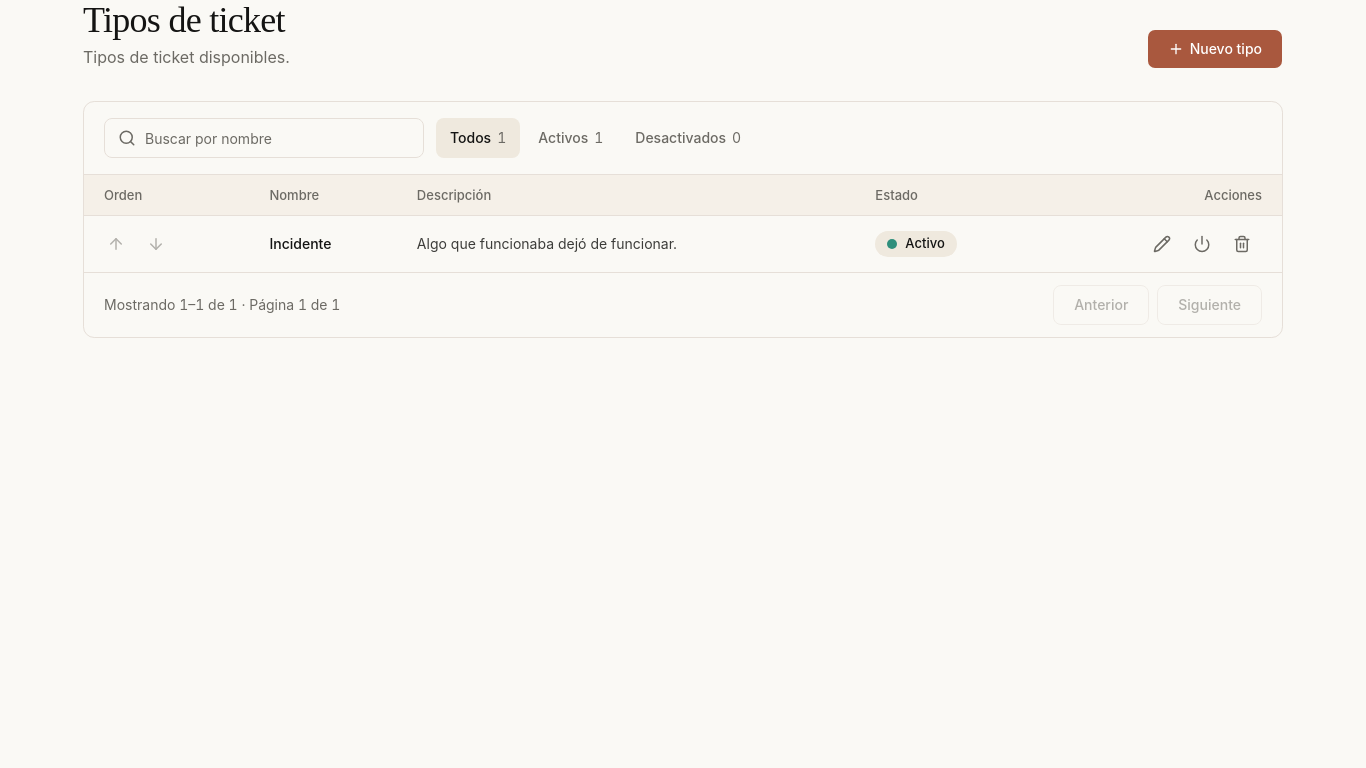
Test case: CatalogsAdmin › Tipos de ticket con descripción (SPEC 12) › el alta envía la descripción y el tipo aparece en la tabla
Expected: the text "Incidente" is shown, 269,235 -> 331,252
Click the button "Nuevo tipo": (1215, 49) 1147,29 -> 1283,69
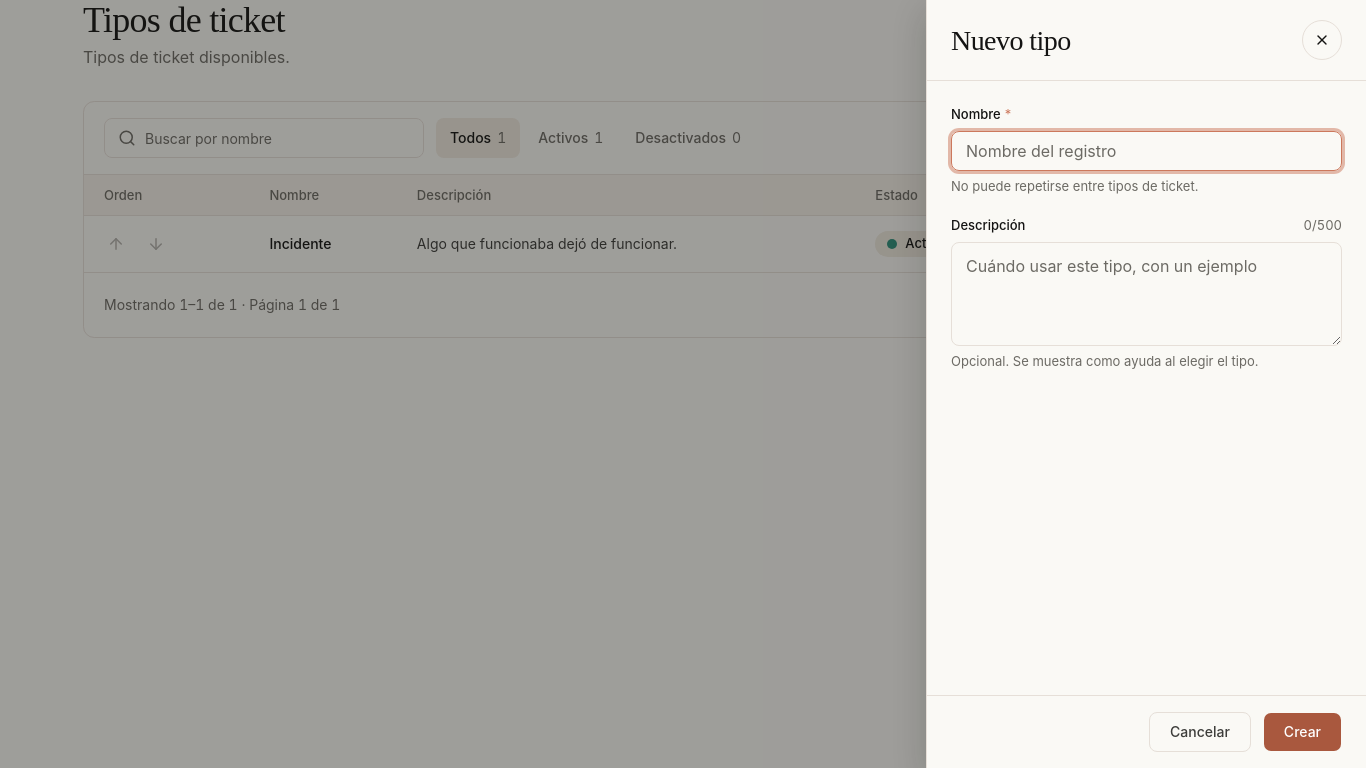
In the field labelled "Nombre": (1146, 150) 951,130 -> 1342,170, type "Consulta"
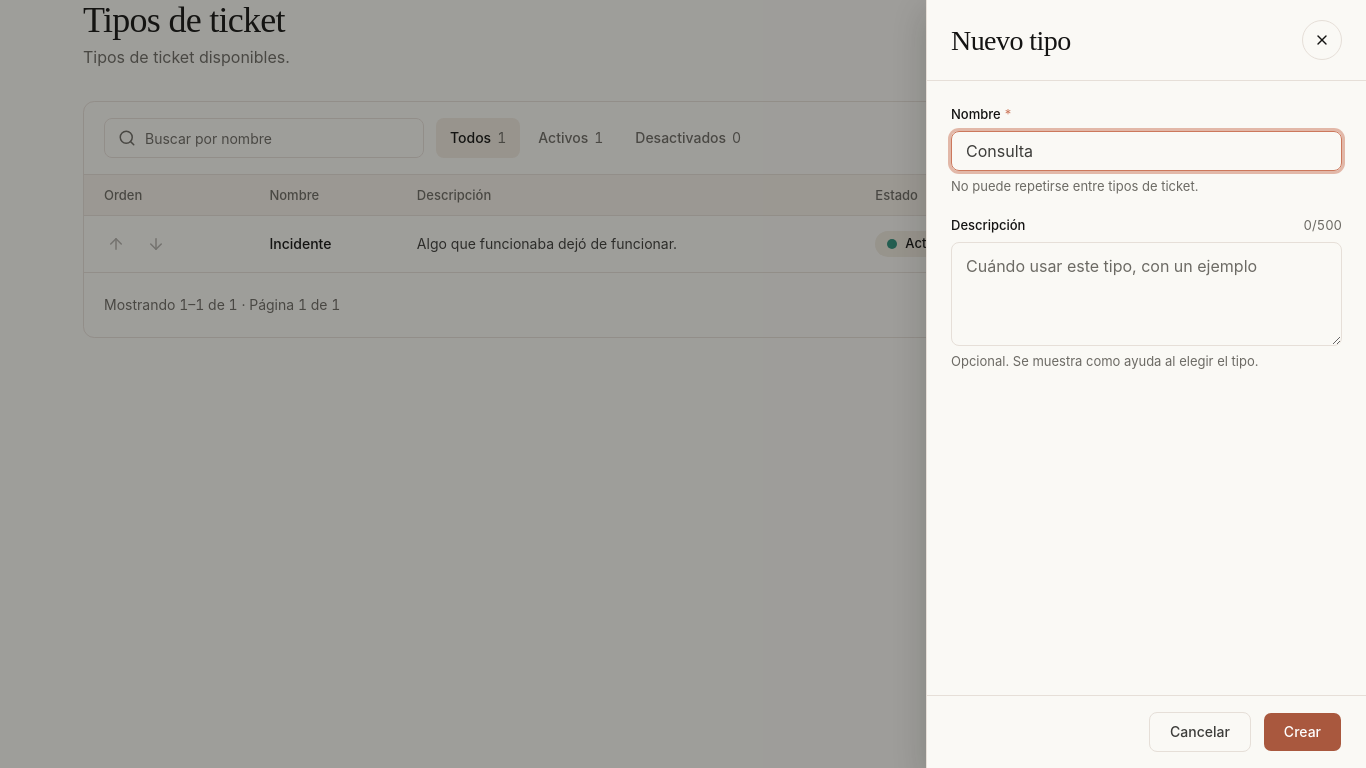
In the text box labelled "Descripción": (1146, 294) 951,242 -> 1342,346, type "Pedir que revisen algo."
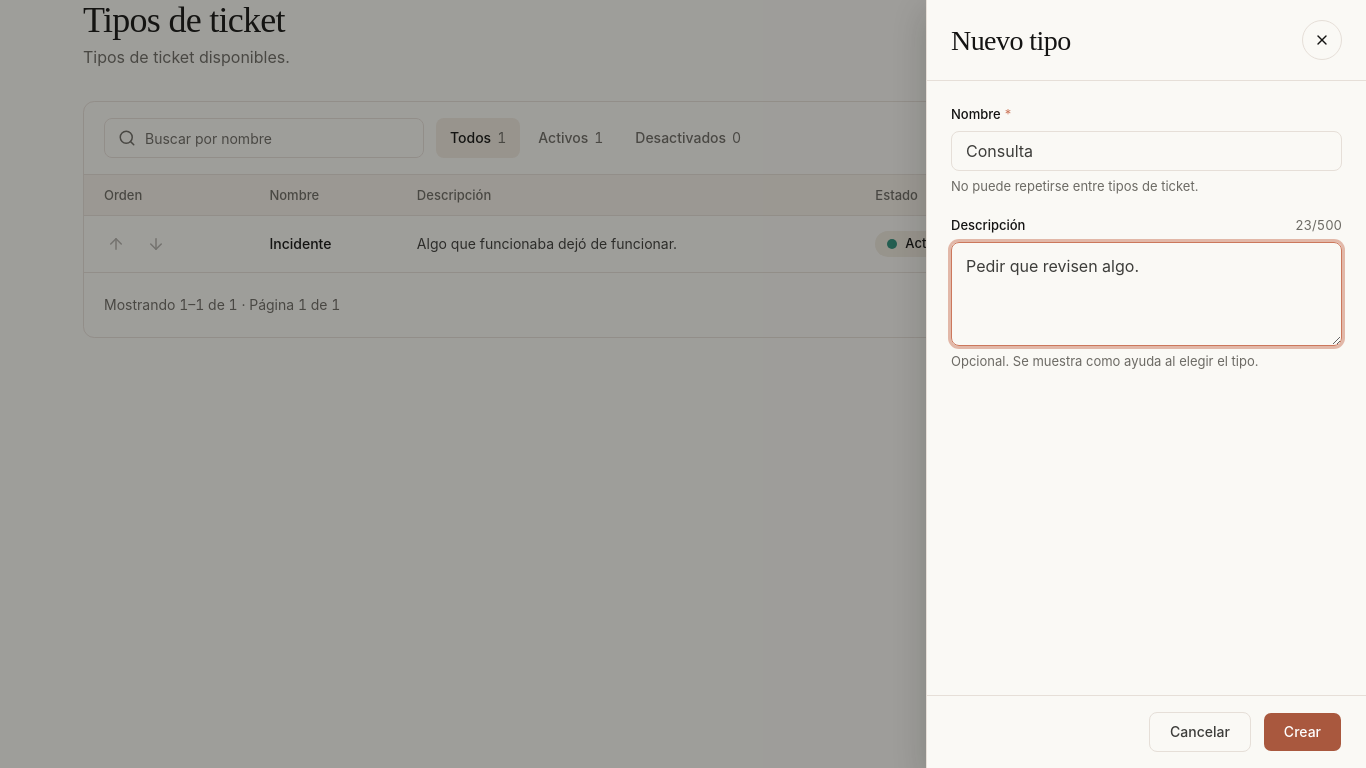
Click the button "Crear": (1302, 732) 1263,712 -> 1342,752
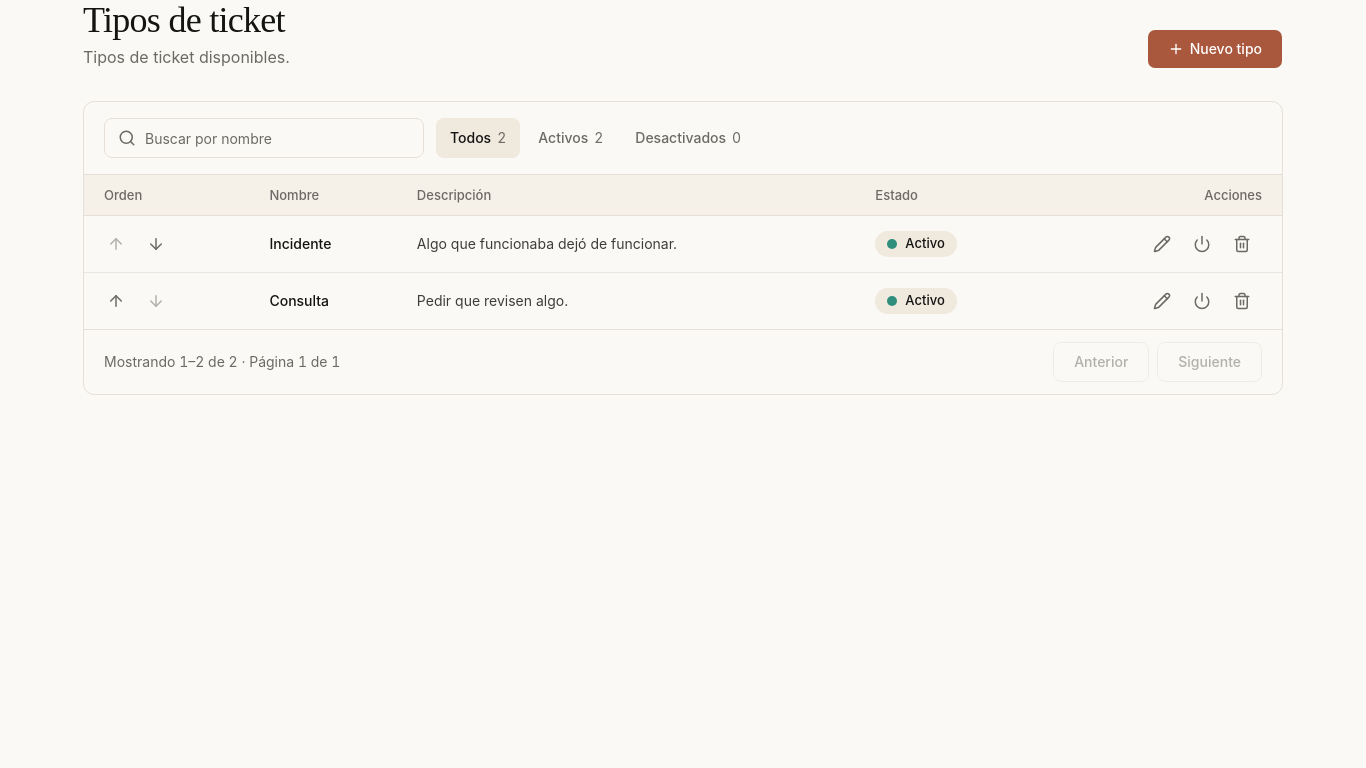
Expected: the text "Pedir que revisen algo." is shown, 417,292 -> 568,309
